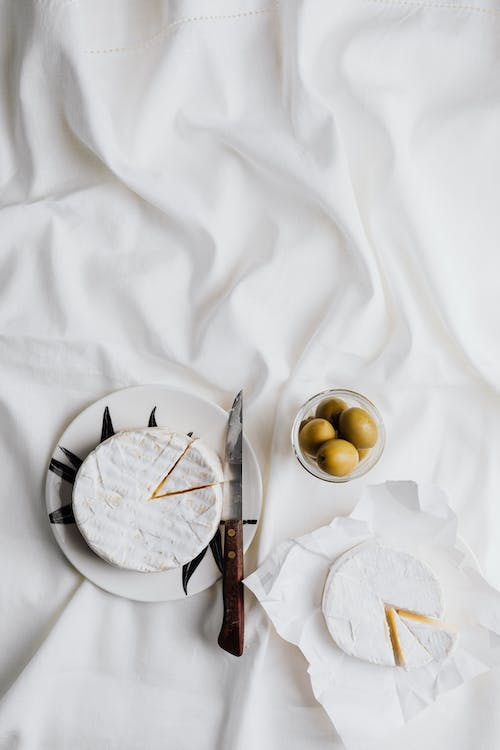knife: (216, 387, 246, 658)
